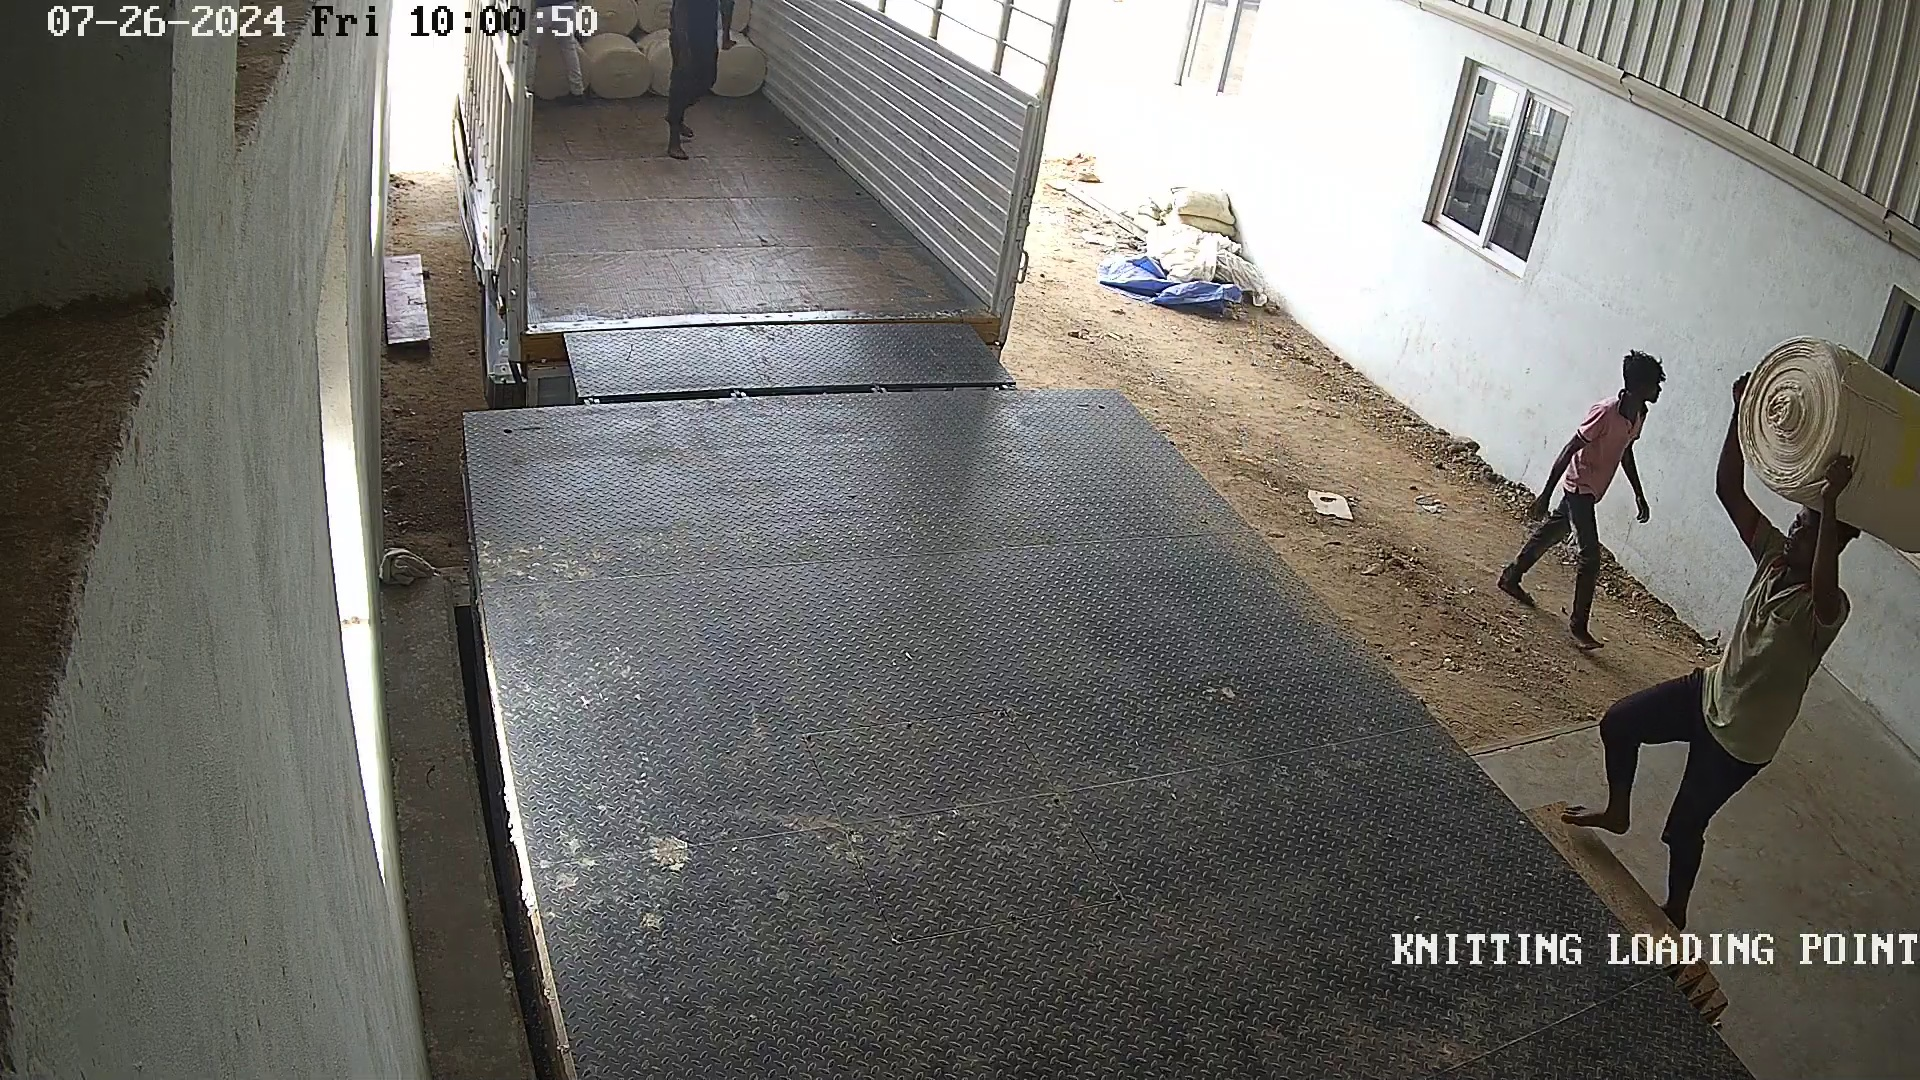bag: (1731, 328, 1920, 562)
